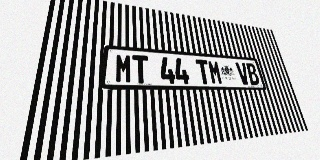4: (159, 57, 176, 84), (173, 58, 190, 84)
B: (245, 63, 260, 85)
M: (115, 53, 132, 83), (207, 60, 223, 84)
T: (132, 55, 149, 83), (195, 59, 211, 84)
V: (235, 62, 251, 85)
